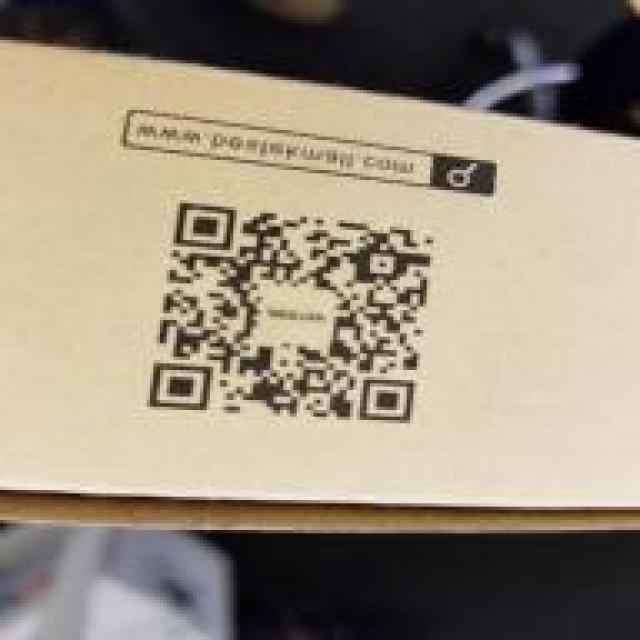qr_code: (149, 202, 435, 422)
